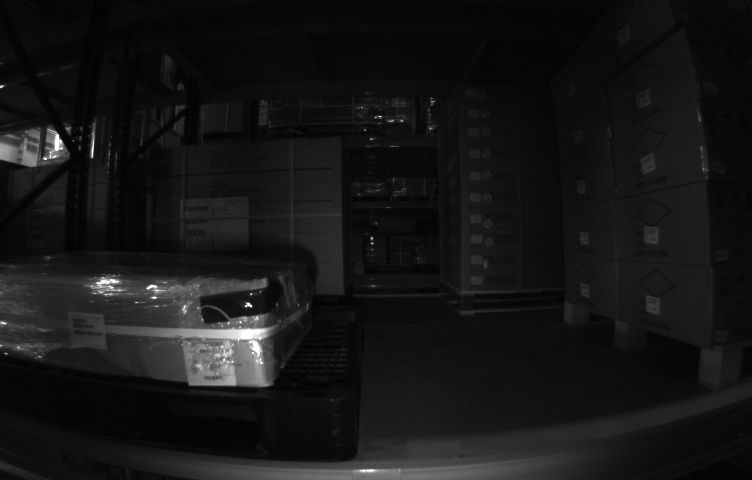True Barcode: (182, 336, 239, 391)
